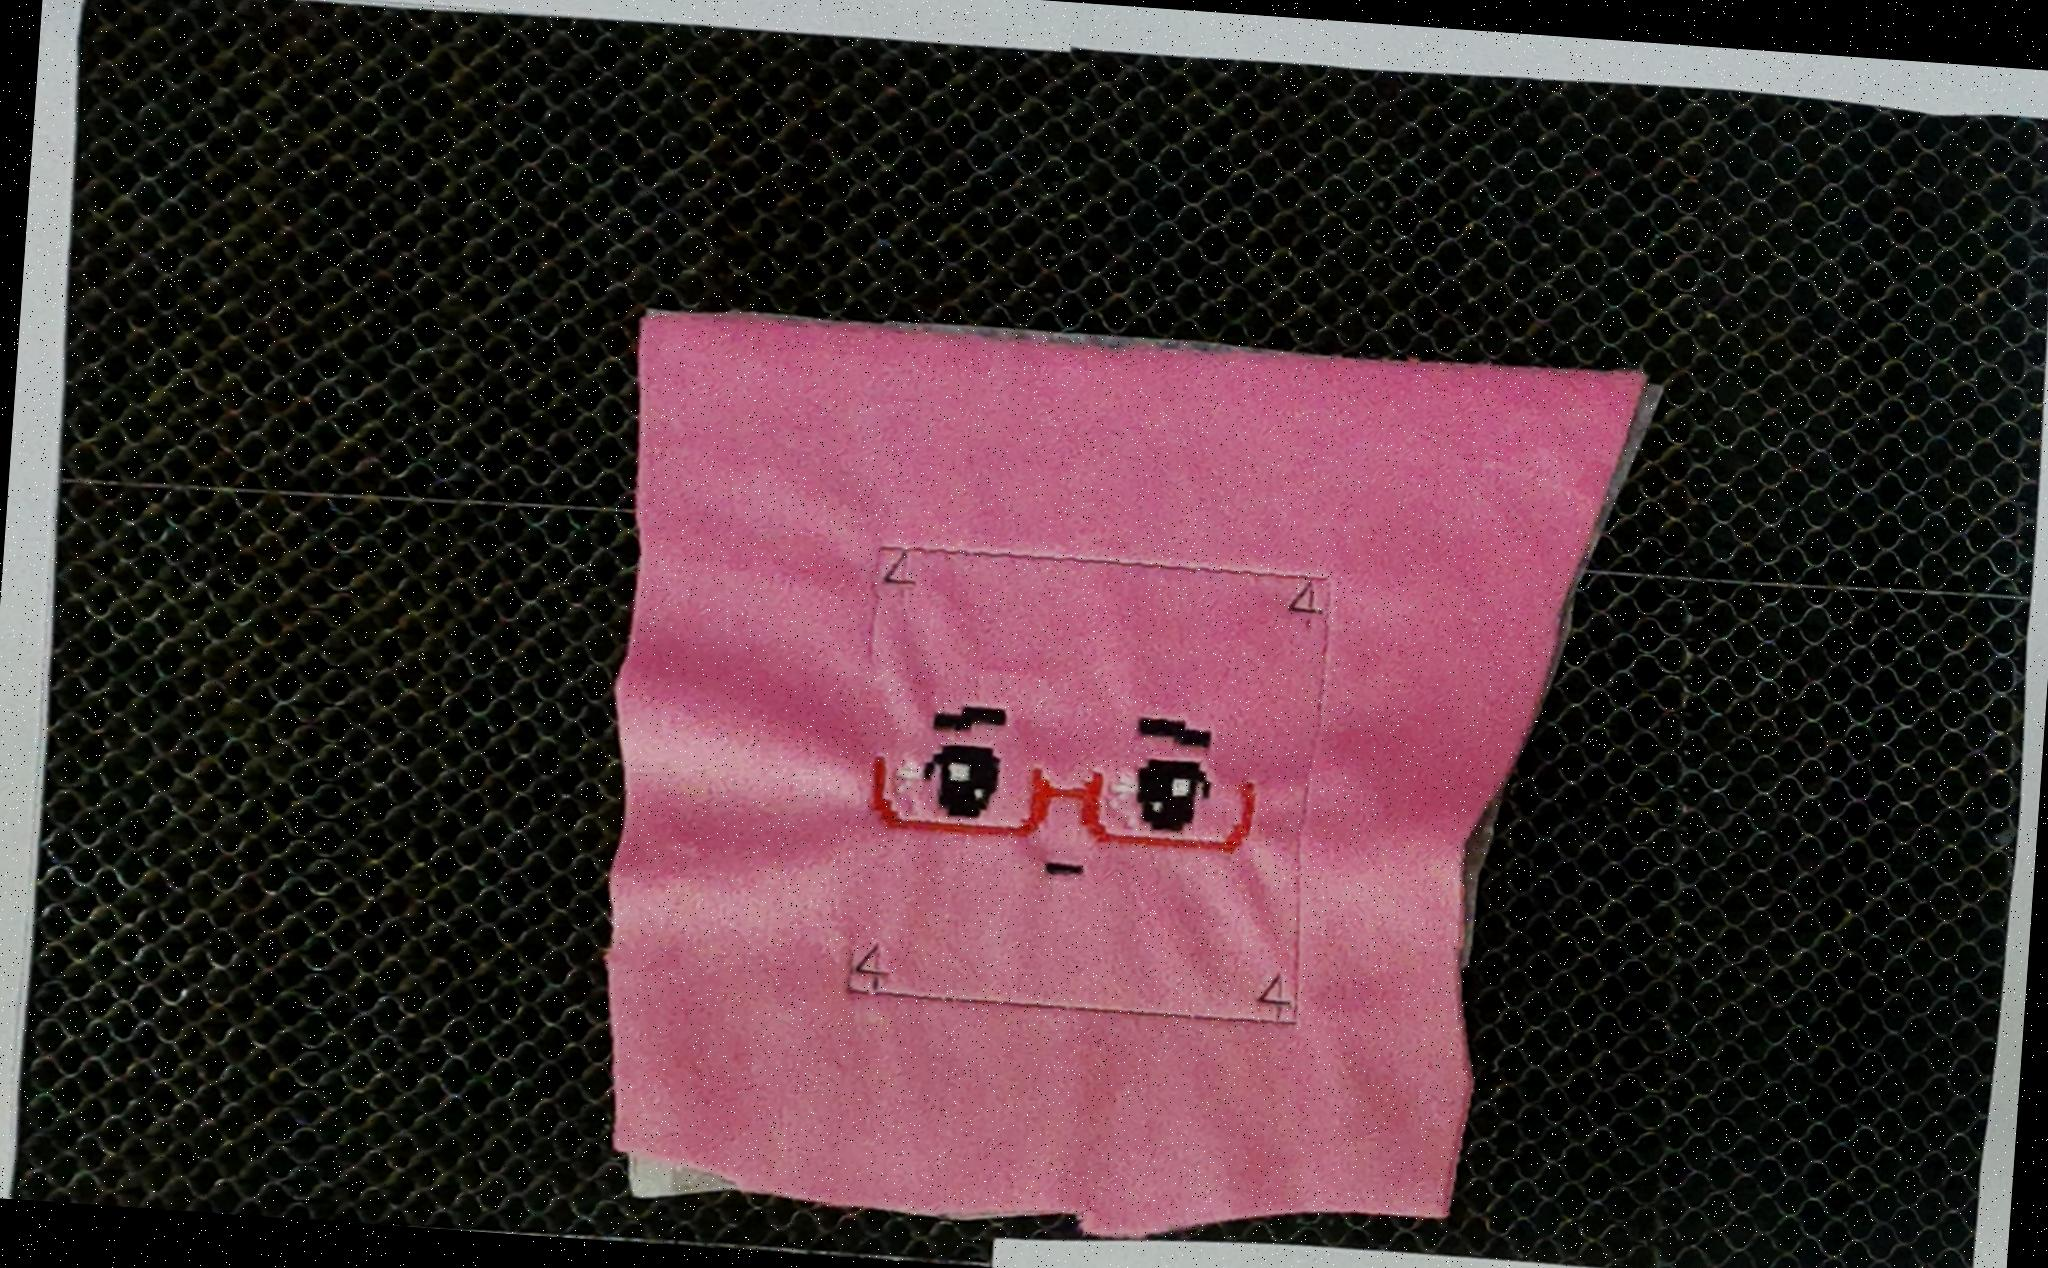objects: (569, 278, 1679, 1268)
